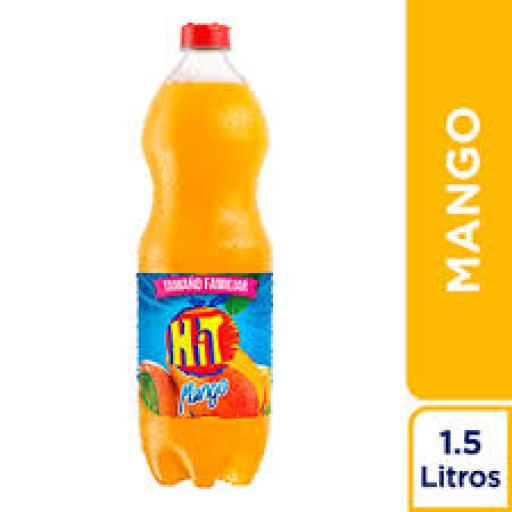JugoHM: (108, 0, 303, 494)
